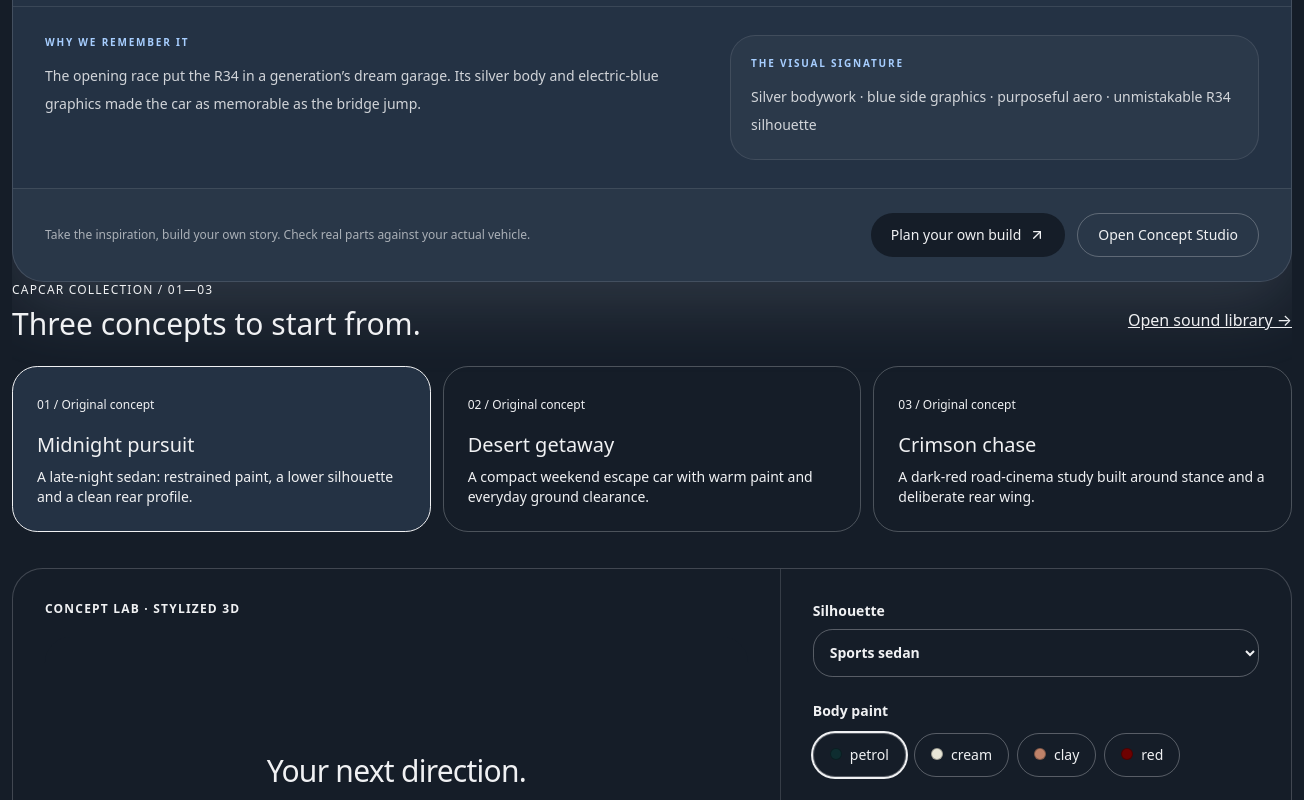
Scenario: showcase directions › switches the concept and its proposed build sequence together
(page scrolled)
Click the button "02 / Original concept" at x=539, y=404, box [443,366,861,532]
(page scrolled)
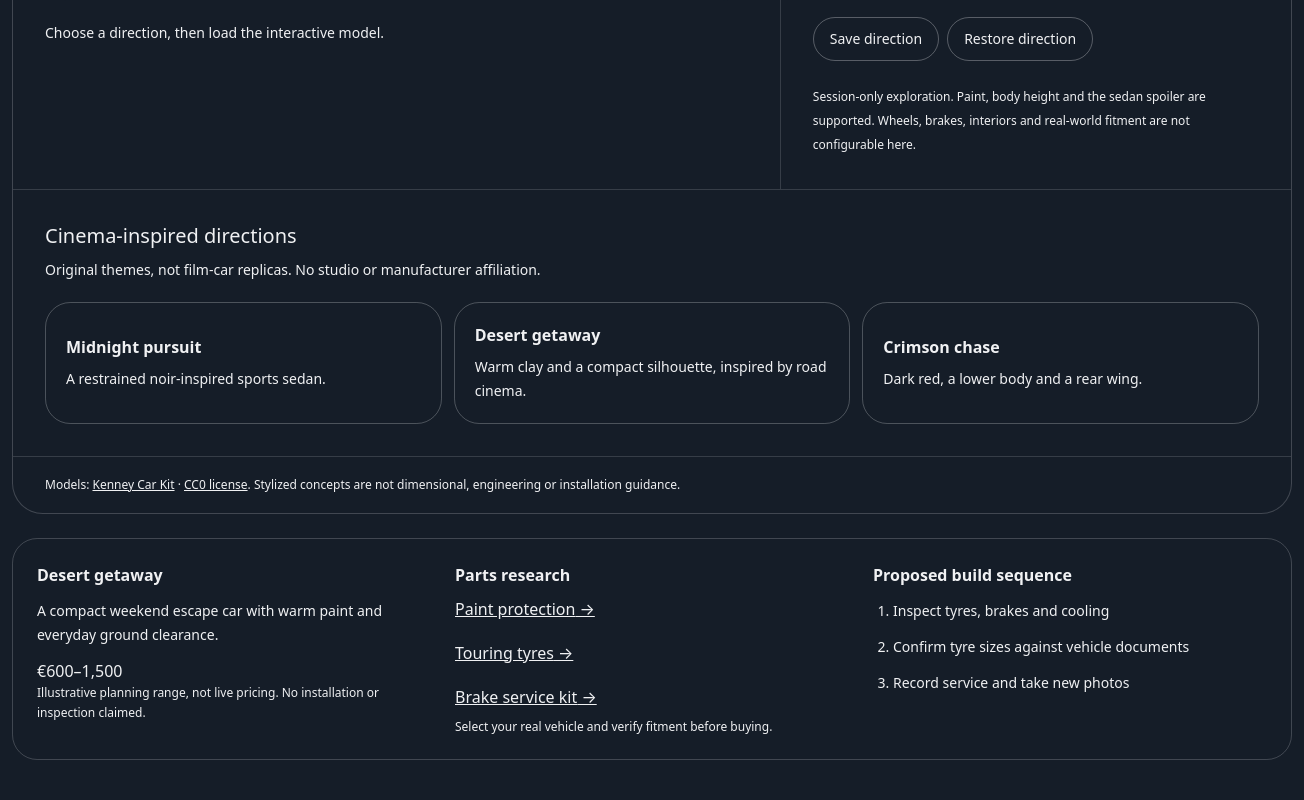
Check: the text "€600–1,500" is shown, box [37,660,122,682]
